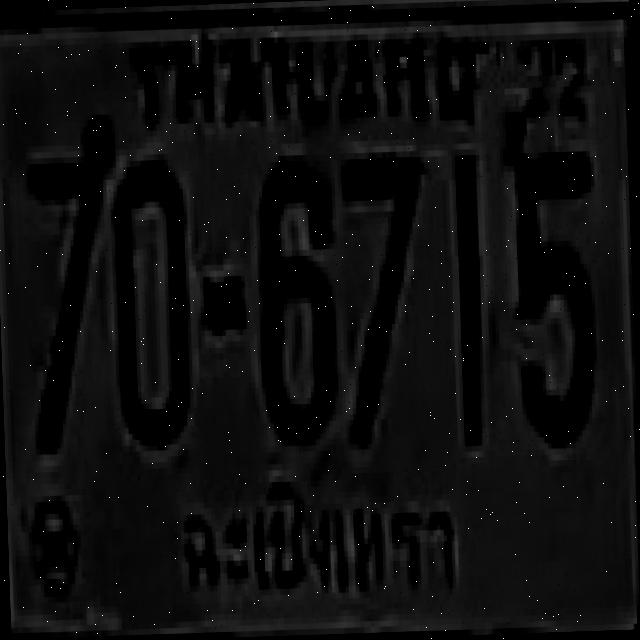0: (108, 156, 190, 443)
1: (449, 152, 484, 442)
5: (504, 136, 598, 441)
6: (252, 154, 334, 435)
7: (24, 132, 119, 448), (338, 148, 428, 441)
Chachoengsao: (162, 456, 472, 626)
